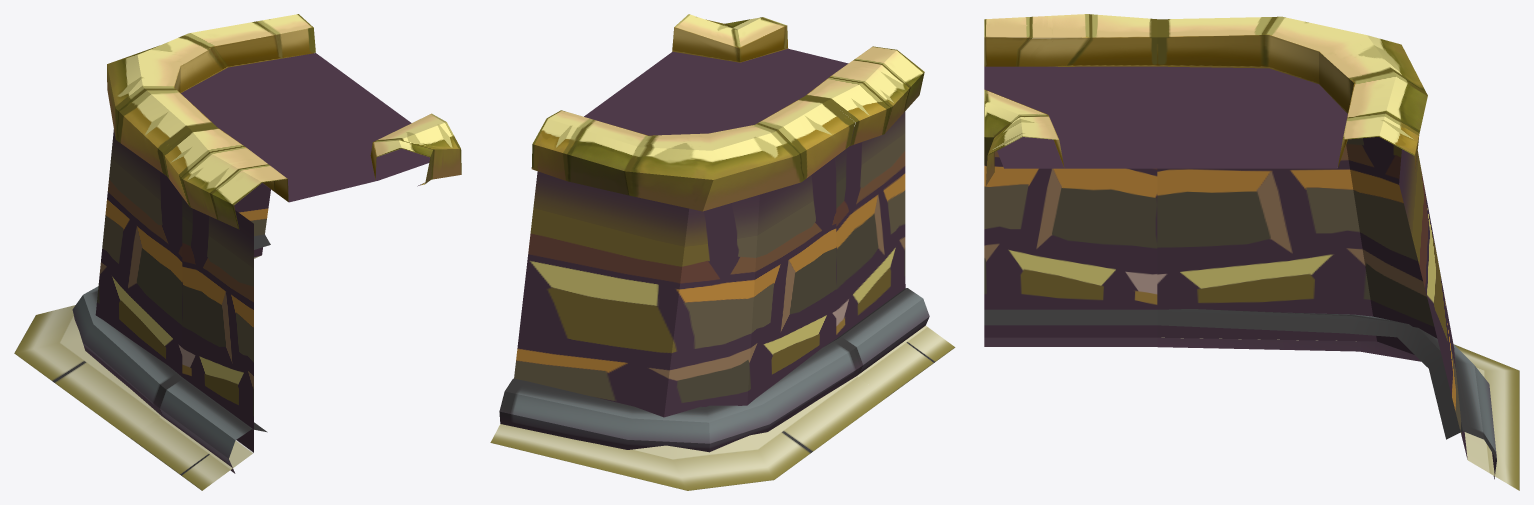
The model's file is Int_45.fbx.
3 views of the same model, side by side, from view 1: azimuth 30°, elevation 25°; view 2: azimuth 150°, elevation 25°; view 3: azimuth 270°, elevation 25° (orthographic). The views are drawn at different scales.
Visible parts, largest first — view 1: Int_45; view 2: Int_45; view 3: Int_45.
Boxes of the visible parts, left/top/right/bottom form: Int_45: left=14, top=14, right=461, bottom=490; Int_45: left=490, top=14, right=955, bottom=490; Int_45: left=984, top=14, right=1519, bottom=490.
Bounding box in the file's own units: 1 × 1.09 × 1.48.
